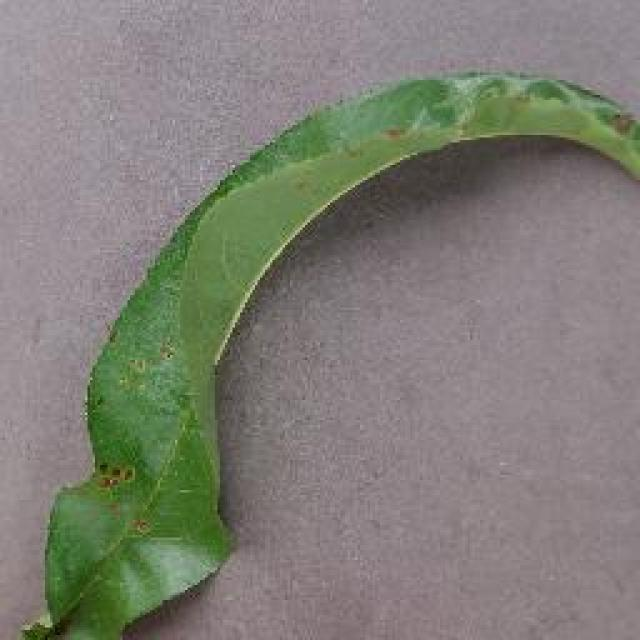Peach_Bacterial_Spot: (102, 313, 205, 580)
